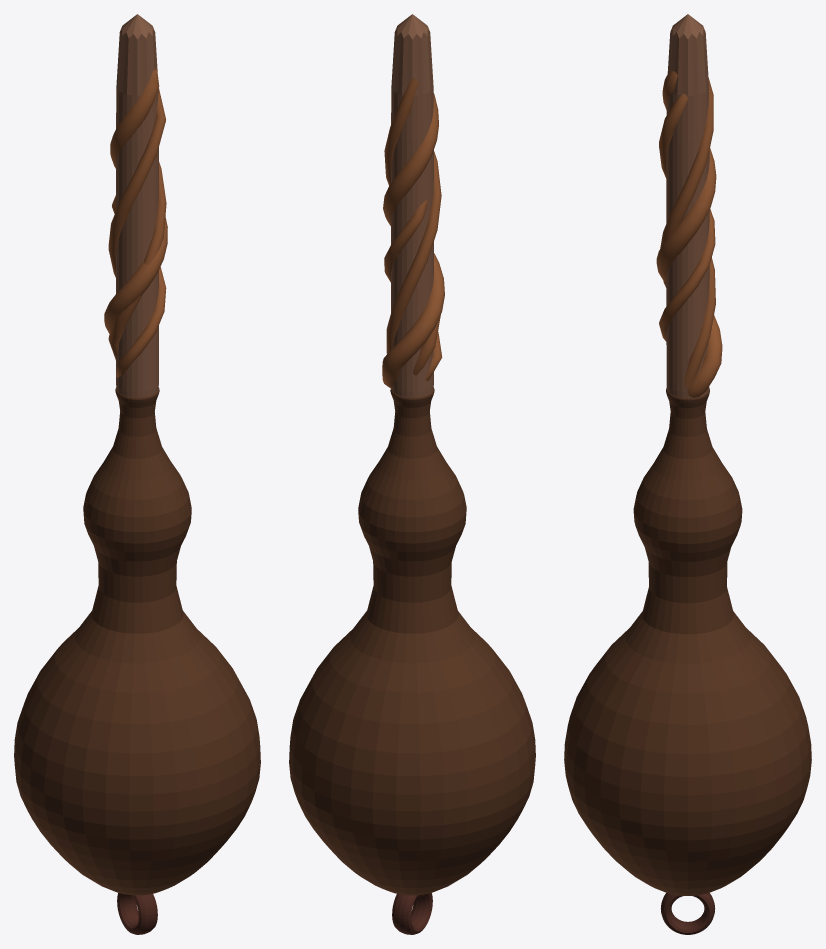
The model's file is Wand 671.glb.
3 views of the same model, side by side, from view 1: azimuth 30°, elevation 25°; view 2: azimuth 150°, elevation 25°; view 3: azimuth 270°, elevation 25° (orthographic).
Visible parts, largest first — view 1: GeneratedWand; view 2: GeneratedWand; view 3: GeneratedWand.
Boxes of the visible parts, x1,y1,x2,y2 form: GeneratedWand: [14, 14, 260, 934]; GeneratedWand: [289, 14, 535, 934]; GeneratedWand: [564, 14, 811, 934].
Size of the model in its own units: 0.123 by 0.5036 by 0.123.
